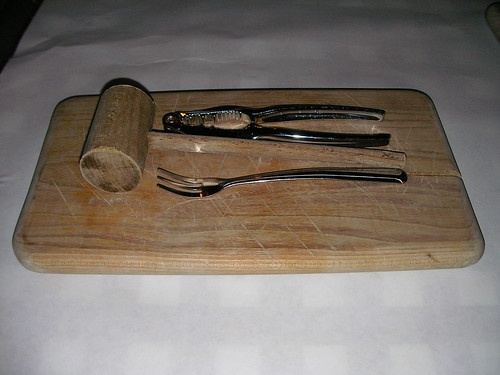hammer: (77, 81, 413, 206)
